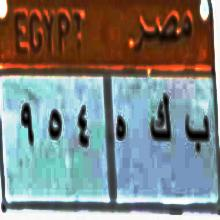4: (73, 95, 93, 155)
5: (46, 104, 66, 149)
9: (19, 96, 37, 152)
baa: (182, 104, 212, 155)
haa: (113, 106, 130, 147)
kaaf: (147, 93, 175, 151)
